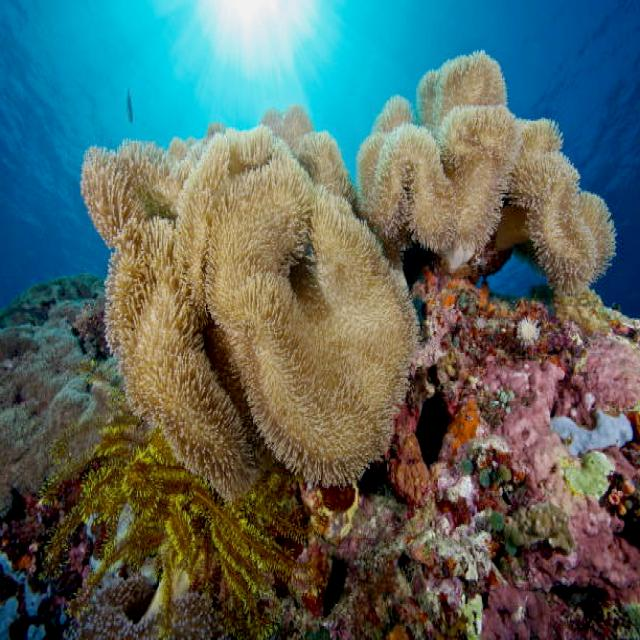Coral: (79, 49, 618, 510)
